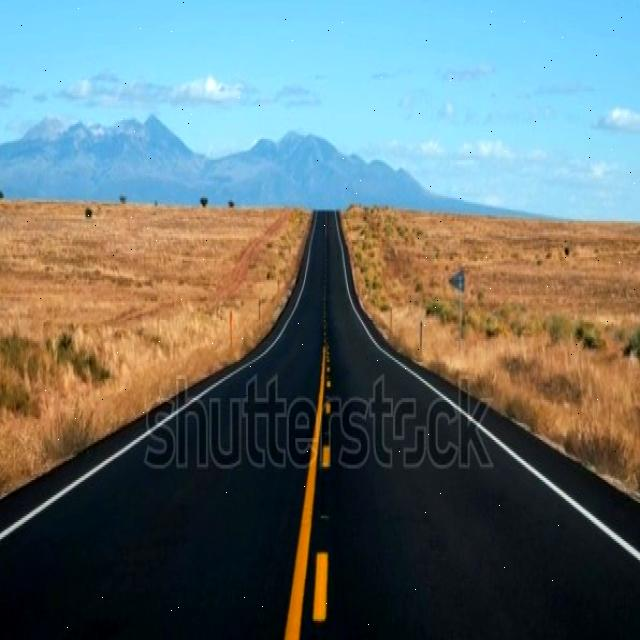lane: (285, 341, 325, 638), (312, 552, 328, 621)
road: (0, 211, 639, 636)
